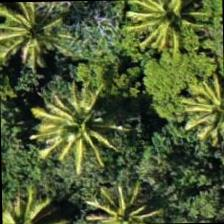Kelapa_Sawit: (27, 72, 119, 164), (0, 1, 80, 78), (129, 0, 221, 64), (77, 166, 170, 223), (174, 49, 224, 141)
